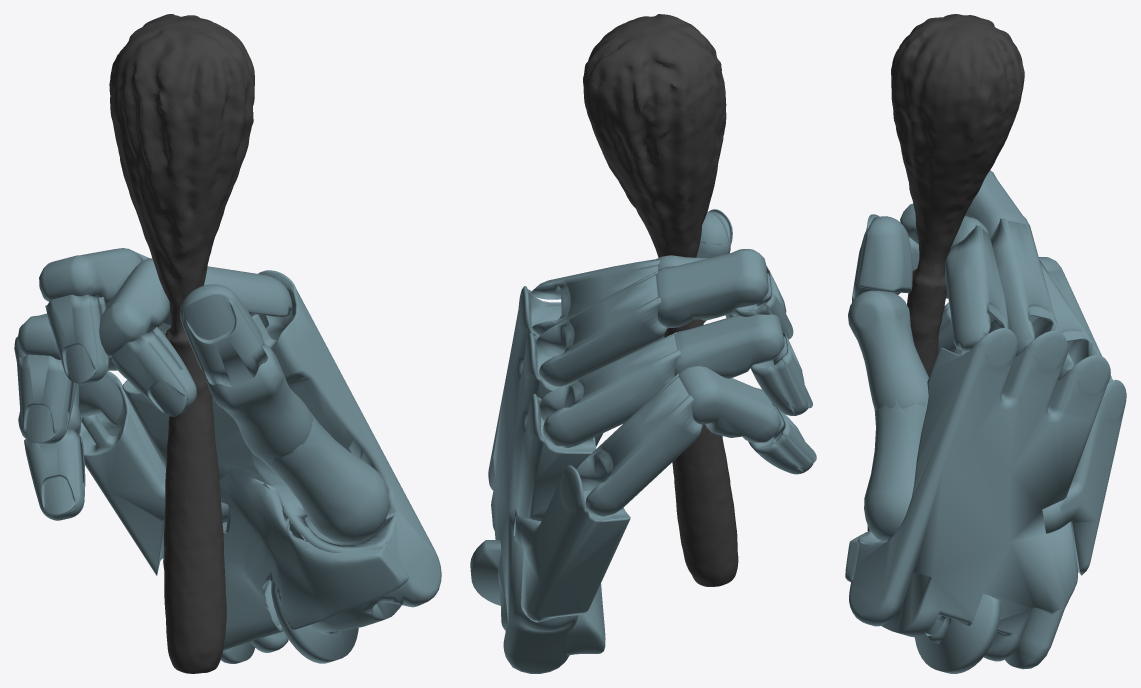
3 views of the same model, side by side, from view 1: azimuth 30°, elevation 25°; view 2: azimuth 150°, elevation 25°; view 3: azimuth 270°, elevation 25° (orthographic). The views are drawn at different scales.
Parts seen in each view (by area): view 1: world; view 2: world; view 3: world.
Boxes of the visible parts, <box> form: world: <box>14,14,441,673</box>; world: <box>470,14,816,673</box>; world: <box>845,14,1126,673</box>.
Size of the model in its own units: 0.133 by 0.2313 by 0.0973.
1 material, 1 textured.
